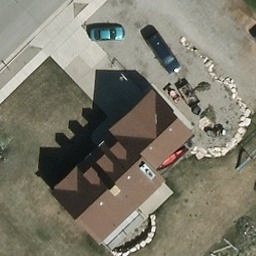car: (90, 27, 125, 41)
pickup: (144, 32, 182, 74)
